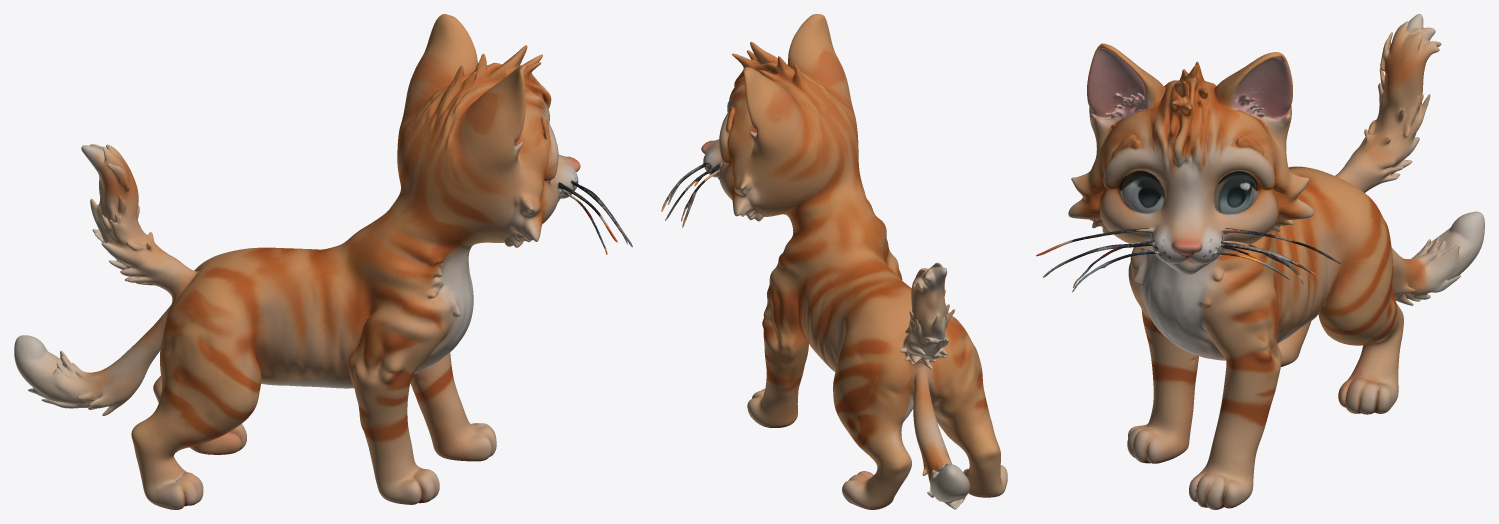
The model's file is 34b5ee7f-8fbf-4f5e-83f8-9be06a36be00_pbr.glb.
3 renders of one model, left to right at view 1: azimuth 30°, elevation 25°; view 2: azimuth 150°, elevation 25°; view 3: azimuth 270°, elevation 25°, orthographic. The views are drawn at different scales.
Parts seen in each view (by area): view 1: tripo_node_34b5ee7f-8fbf-4f5e-83f8-9be06a36be00; view 2: tripo_node_34b5ee7f-8fbf-4f5e-83f8-9be06a36be00; view 3: tripo_node_34b5ee7f-8fbf-4f5e-83f8-9be06a36be00.
Boxes of the visible parts, x1,y1,x2,y2 form: tripo_node_34b5ee7f-8fbf-4f5e-83f8-9be06a36be00: [14, 14, 632, 509]; tripo_node_34b5ee7f-8fbf-4f5e-83f8-9be06a36be00: [661, 14, 1007, 509]; tripo_node_34b5ee7f-8fbf-4f5e-83f8-9be06a36be00: [1036, 14, 1484, 509].
Size of the model in its own units: 1 by 0.9505 by 0.8422.
1 material, 1 textured.
